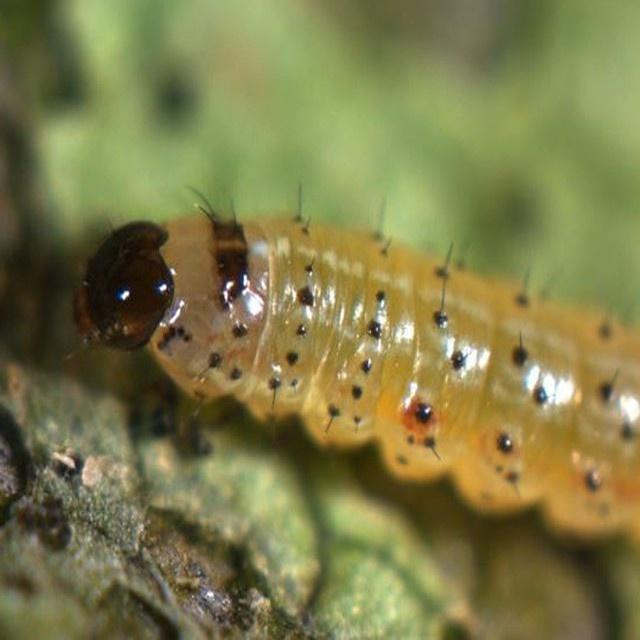gusano_cogollero: (68, 178, 640, 558)
